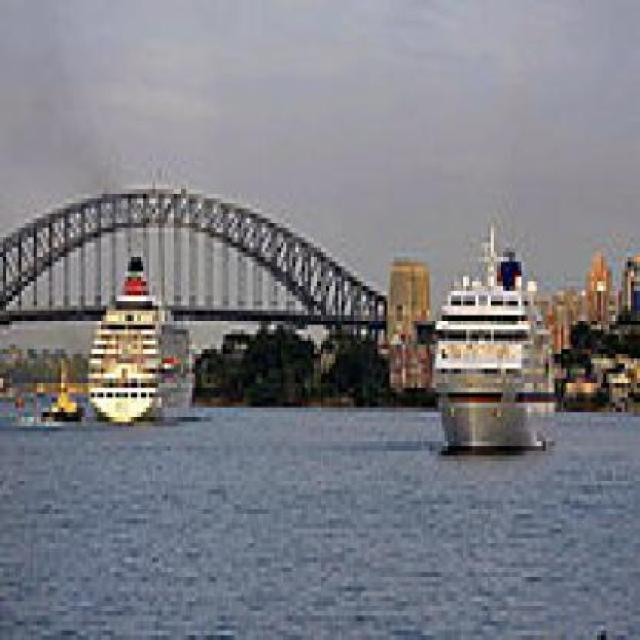cruise: (428, 219, 574, 466), (80, 239, 205, 433)
